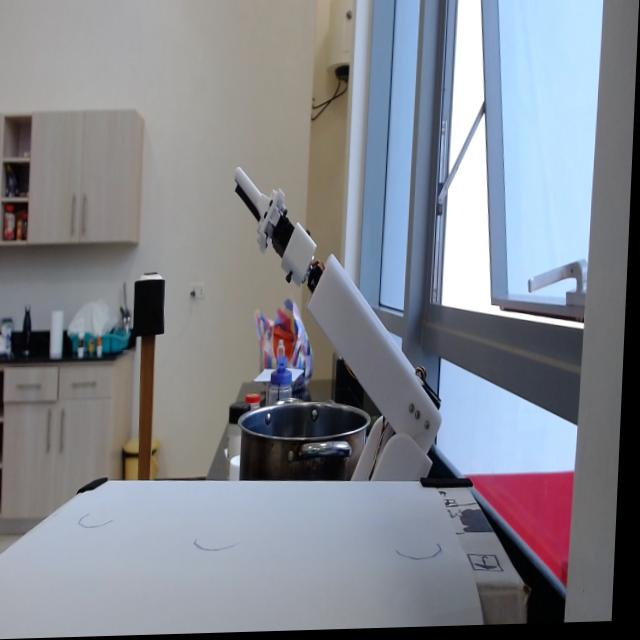cooking_pot: (240, 380, 372, 489)
spatula: (130, 277, 169, 491)
